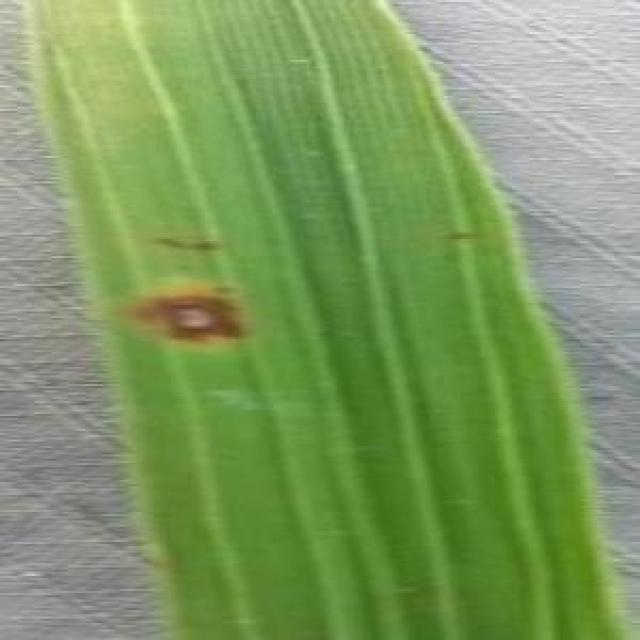Brown_Spot: (124, 273, 253, 363)
